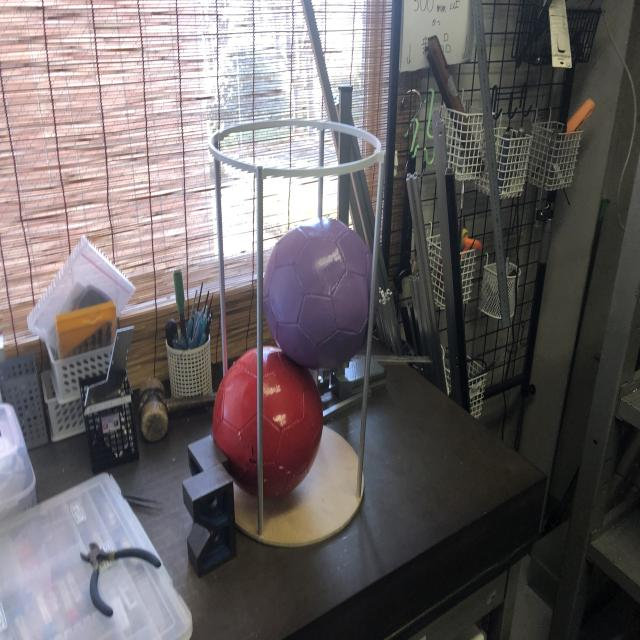purple_ball: (264, 217, 379, 369)
red_ball: (211, 343, 322, 499)
